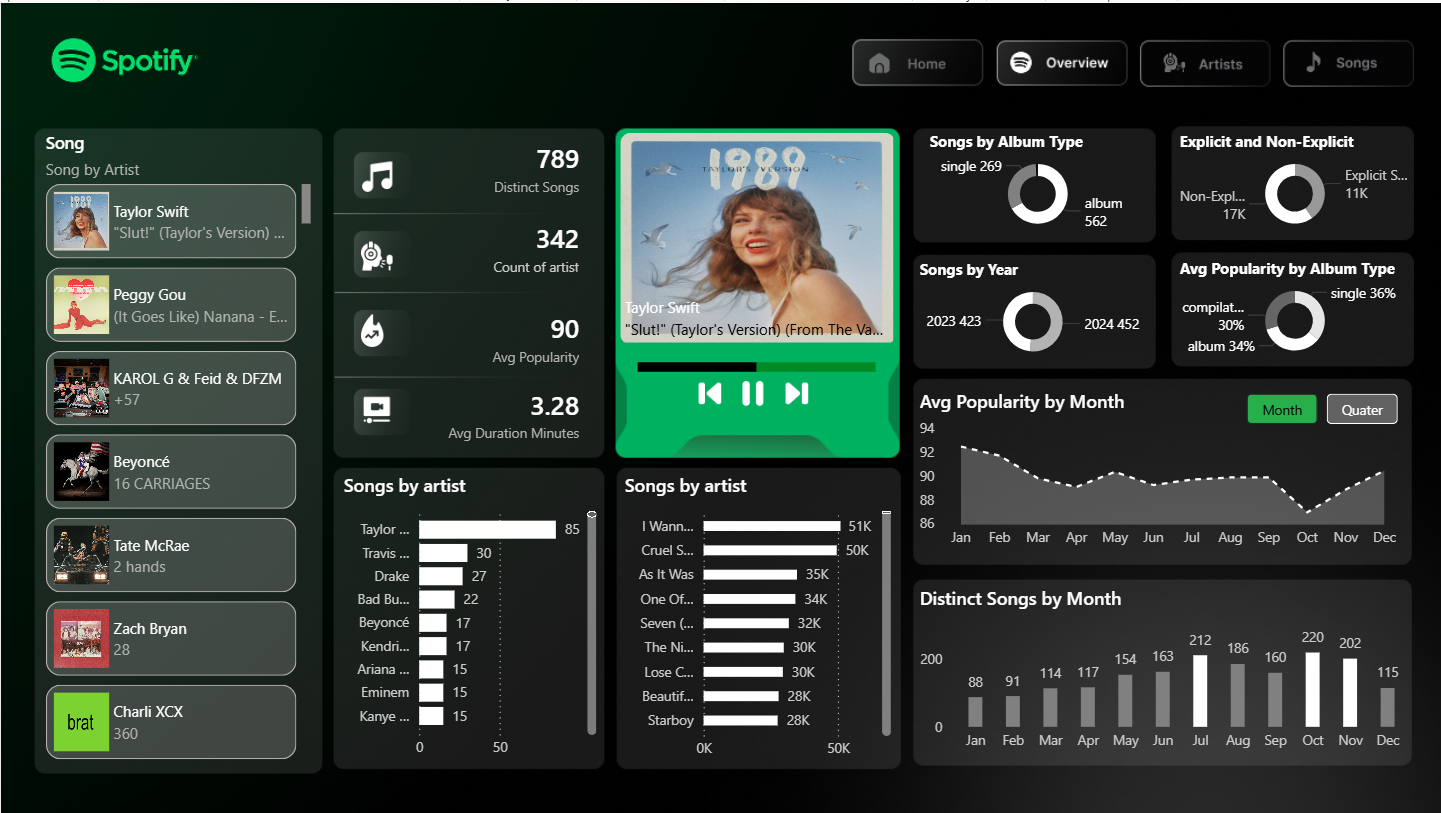

What the dashboard file says about the page in this screenshot:
{"tool":"powerbi","page":{"name":"Page 1","canvas":[1280,720],"ordinal":0},"visuals":[{"type":"clusteredBarChart","title":"Songs by artist","fields":{"Category":["Top-50-world.artist"],"Y":["_Measures.Distinct Songs"]},"box":[300.4,417,234.2,261.2],"z":0},{"type":"clusteredBarChart","title":"Songs by artist","fields":{"Category":["Top-50-world.song"],"Y":["Sum(Top-50-world.popularity)"]},"box":[549.5,417,246.3,262.2],"z":1000},{"type":"areaChart","fields":{"Category":["Top-50-world.Month"],"Y":["_Measures.Avg Popularity"]},"box":[811.7,342.4,435.7,149.3],"z":2000},{"type":"advancedSlicerVisual","fields":{"Values":["Slicer_option.Slicer_option"]},"box":[1101.5,341,145.5,37.2],"z":3000},{"type":"donutChart","title":"Songs by Album Type","fields":{"Y":["_Measures.Distinct Songs"],"Category":["Top-50-world.album_type"]},"box":[820,113.7,201.8,94.5],"z":4000},{"type":"donutChart","title":"Explicit and Non-Explicit","fields":{"Y":["_Measures.Explicit Songs","_Measures.Non-Explicit Songs"]},"box":[1042.1,113.8,214.6,94.2],"z":5000},{"type":"donutChart","title":"Songs by Year","fields":{"Y":["_Measures.Distinct Songs"],"Category":["Top-50-world.Year"]},"box":[811.7,226.7,210.8,94.2],"z":6000},{"type":"donutChart","title":"Avg Popularity by Album Type","fields":{"Category":["Top-50-world.album_type"],"Y":["_Measures.Avg Popularity"]},"box":[1042.1,225.8,214.6,94.2],"z":7000},{"type":"clusteredColumnChart","fields":{"Category":["Top-50-world.Month"],"Y":["_Measures.Distinct Songs"]},"box":[811.7,516.9,445,154.9],"z":8000},{"type":"cardVisual","fields":{"Data":["_Measures.Distinct Songs"]},"box":[381.6,104.5,150.2,84.9],"z":9000},{"type":"cardVisual","fields":{"Data":["Count(Top-50-world.artist)"]},"box":[381.6,177.3,150.2,79.3],"z":10000},{"type":"cardVisual","fields":{"Data":["_Measures.Avg Duration Minutes"]},"box":[381.6,320.9,150.2,87.7],"z":11000},{"type":"cardVisual","fields":{"Data":["_Measures.Avg Popularity"]},"box":[381.6,255.6,150.2,84.9],"z":12000},{"type":"image","box":[320.9,274.3,28.9,33.6],"z":13000},{"type":"image","box":[321.4,208,28,32.7],"z":14000},{"type":"image","box":[321.4,345.2,28,32.7],"z":15000},{"type":"image","box":[321.9,137.1,27.1,32.7],"z":16000},{"type":"advancedSlicerVisual","title":"Song","fields":{"Values":["Top-50-world.song"]},"box":[36.4,113.8,245.4,565.4],"z":17000},{"type":"advancedSlicerVisual","title":"Song","fields":{"Values":["Top-50-world.song"]},"box":[525.2,109.2,294.8,198.7],"z":18000},{"type":"hundredPercentStackedBarChart","fields":{"Y":["_Measures.Avg Popularity","Avg(Top-50-world.popularity)"]},"box":[561.6,281.7,221.1,75.6],"z":18001},{"type":"image","box":[596.2,334.9,69,22.4],"z":18003},{"type":"image","box":[672.7,334.9,69,22.4],"z":18004},{"type":"image","box":[634.4,334.9,69,22.4],"z":18005}]}

Visuals, with their boxes in screenshot pixels (x1, y1, x2, y2), scaled from the page's 1280x720 canvas onto the 1441x813 screenshot:
"Songs by artist" clusteredBarChart: bbox=[338, 471, 602, 766]
"Songs by artist" clusteredBarChart: bbox=[619, 471, 896, 767]
areaChart - Top-50-world.Month x _Measures.Avg Popularity: bbox=[914, 387, 1404, 555]
advancedSlicerVisual - Slicer_option.Slicer_option: bbox=[1240, 385, 1404, 427]
"Songs by Album Type" donutChart: bbox=[923, 128, 1150, 235]
"Explicit and Non-Explicit" donutChart: bbox=[1173, 128, 1415, 235]
"Songs by Year" donutChart: bbox=[914, 256, 1151, 362]
"Avg Popularity by Album Type" donutChart: bbox=[1173, 255, 1415, 361]
clusteredColumnChart - Top-50-world.Month x _Measures.Distinct Songs: bbox=[914, 584, 1415, 759]
cardVisual - _Measures.Distinct Songs: bbox=[430, 118, 599, 214]
cardVisual - Count(Top-50-world.artist): bbox=[430, 200, 599, 290]
cardVisual - _Measures.Avg Duration Minutes: bbox=[430, 362, 599, 461]
cardVisual - _Measures.Avg Popularity: bbox=[430, 289, 599, 384]
image: bbox=[361, 310, 394, 348]
image: bbox=[362, 235, 393, 272]
image: bbox=[362, 390, 393, 427]
image: bbox=[362, 155, 393, 192]
"Song" advancedSlicerVisual: bbox=[41, 128, 317, 767]
"Song" advancedSlicerVisual: bbox=[591, 123, 923, 348]
hundredPercentStackedBarChart - _Measures.Avg Popularity x Avg(Top-50-world.popularity): bbox=[632, 318, 881, 403]
image: bbox=[671, 378, 749, 403]
image: bbox=[757, 378, 835, 403]
image: bbox=[714, 378, 792, 403]
